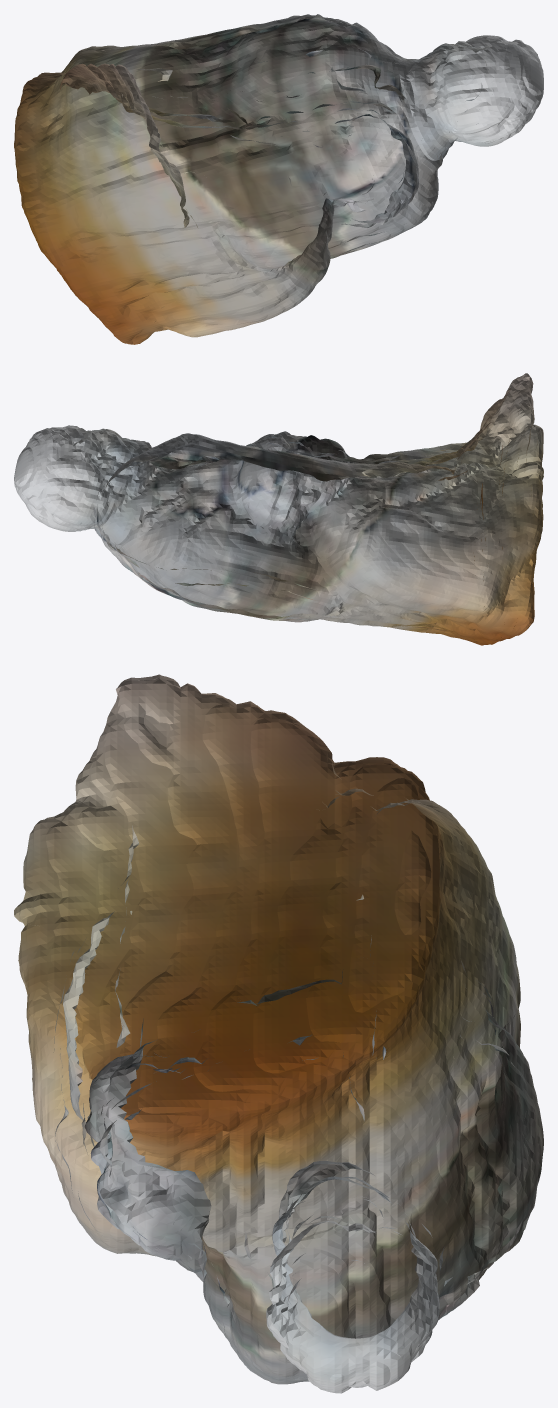
Rendered from monument_berlin.glb.
3 renders of one model, top to bottom at view 1: azimuth 30°, elevation 25°; view 2: azimuth 150°, elevation 25°; view 3: azimuth 270°, elevation 25°, orthographic. The views are drawn at different scales.
Parts seen in each view (by area): view 1: geometry_0; view 2: geometry_0; view 3: geometry_0.
Boxes of the visible parts, box(x1,y1,x2,y2) form: geometry_0: box(14, 14, 543, 344); geometry_0: box(14, 373, 543, 645); geometry_0: box(14, 674, 543, 1393).
Bounding box in the file's own units: 0.9404 × 0.4987 × 0.5163.
